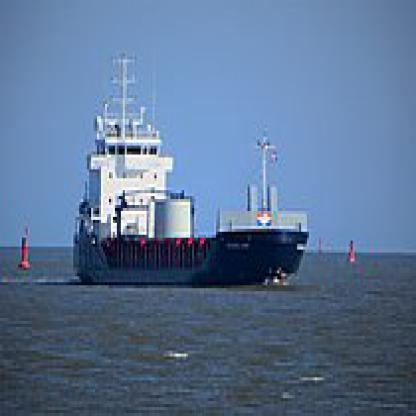Container Ship: (71, 48, 309, 286)
